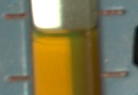border: (96, 69, 132, 81), (96, 8, 128, 18), (1, 12, 29, 20), (4, 75, 32, 83)
liquidlevel: (30, 25, 99, 43)
